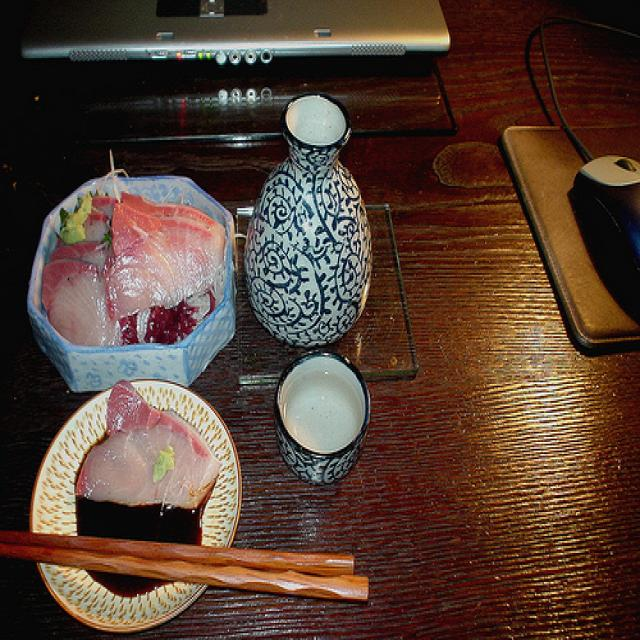刺身生食: (10, 148, 250, 526)
